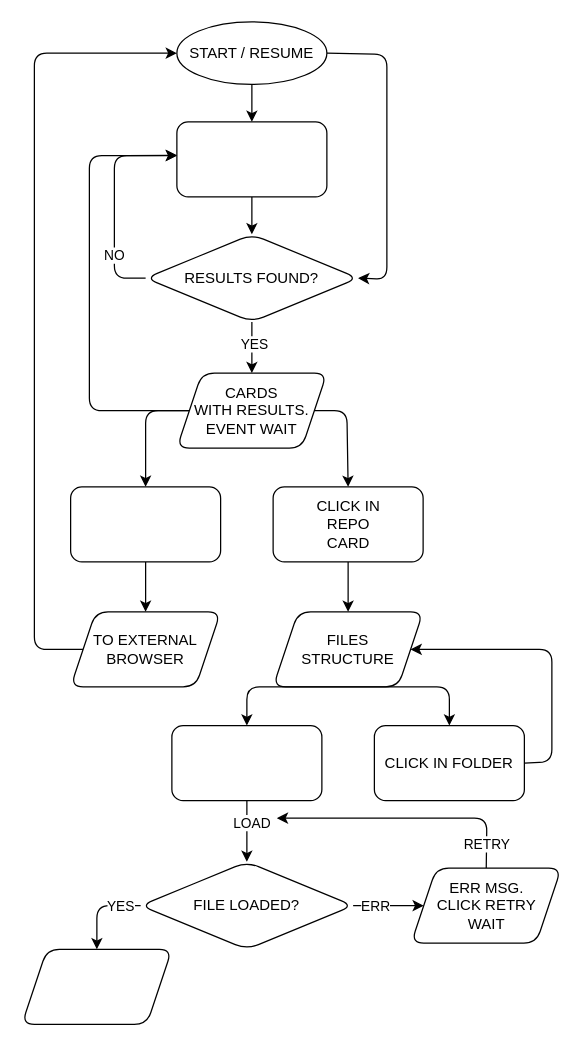
This 584x1046 diagram has some shape labels left out. The shapes that lost their labels are listed below. From the top down, each one's centre as x and y in pixels, then its label:
[251,159]: ENTER SEARCH. QUERY WAIT
[145,524]: CLICK IN USER CARD
[246,762]: CLICK IN FILE
[96,986]: SHOW FILE
